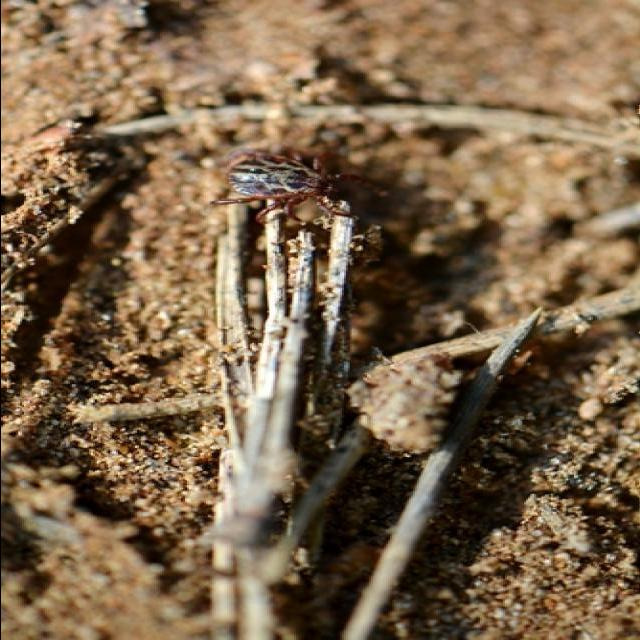Dermacentor Reticulatus-M: (209, 152, 387, 224)
